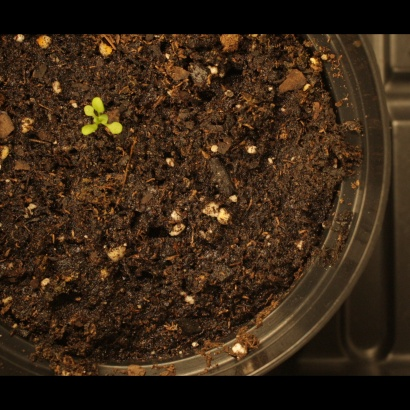leaf: (110, 121, 133, 144), (73, 122, 96, 145), (75, 100, 98, 123), (87, 91, 110, 114), (93, 109, 116, 132)
